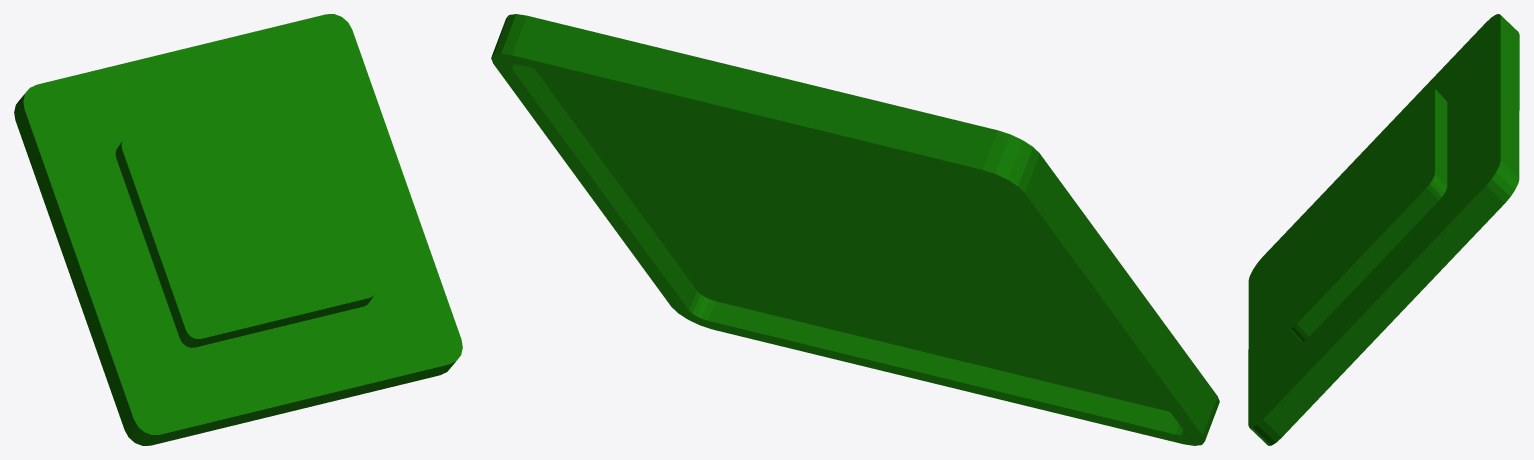
Rendered from trashcan2klapa.gltf.
3 renders of one model, left to right at view 1: azimuth 30°, elevation 25°; view 2: azimuth 150°, elevation 25°; view 3: azimuth 270°, elevation 25°, orthographic. The views are drawn at different scales.
Visible parts, largest first — view 1: Cube.029 -col; view 2: Cube.029 -col; view 3: Cube.029 -col.
Part boxes in pixels (x1=…): Cube.029 -col: x1=14, y1=14, x2=462, y2=445; Cube.029 -col: x1=491, y1=14, x2=1219, y2=445; Cube.029 -col: x1=1248, y1=14, x2=1519, y2=445.
Bounding box in the file's own units: 0.656 × 0.5303 × 0.4607.
